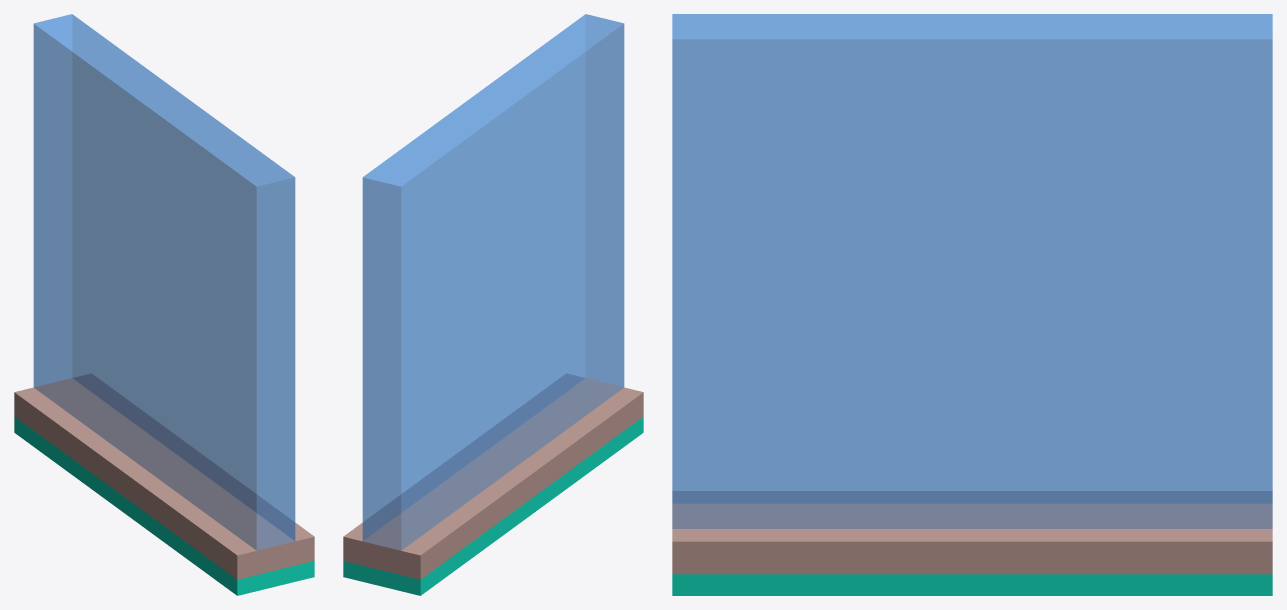
File: window.fbx
3 views of the same model, side by side, from view 1: azimuth 30°, elevation 25°; view 2: azimuth 150°, elevation 25°; view 3: azimuth 270°, elevation 25° (orthographic). The views are drawn at different scales.
Visible parts, largest first — view 1: Window; view 2: Window; view 3: Window.
Part boxes in pixels (<box>): Window: <box>14,14,314,595</box>; Window: <box>343,14,643,595</box>; Window: <box>672,14,1272,595</box>.
Bounding box in the file's own units: 20 × 100 × 100.
